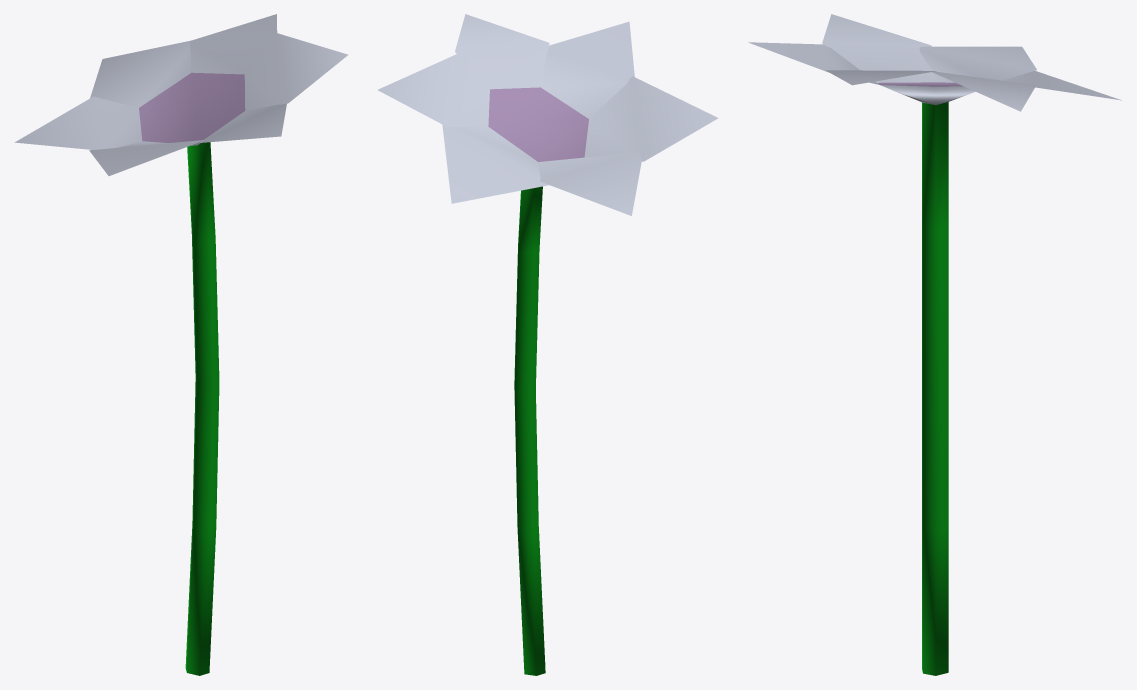
Rendered from narcissa_flower.glb.
The picture shows the model from 3 angles, left to right: view 1: azimuth 30°, elevation 25°; view 2: azimuth 150°, elevation 25°; view 3: azimuth 270°, elevation 25°; orthographic projection. The views are drawn at different scales.
Parts seen in each view (by area): view 1: Cube; view 2: Cube; view 3: Cube.
Part boxes in pixels (x1,y1,x2,y2): Cube: (14, 14, 348, 675); Cube: (378, 14, 718, 675); Cube: (748, 14, 1121, 675).
Size of the model in its own units: 0.1781 by 0.4012 by 0.2128.
